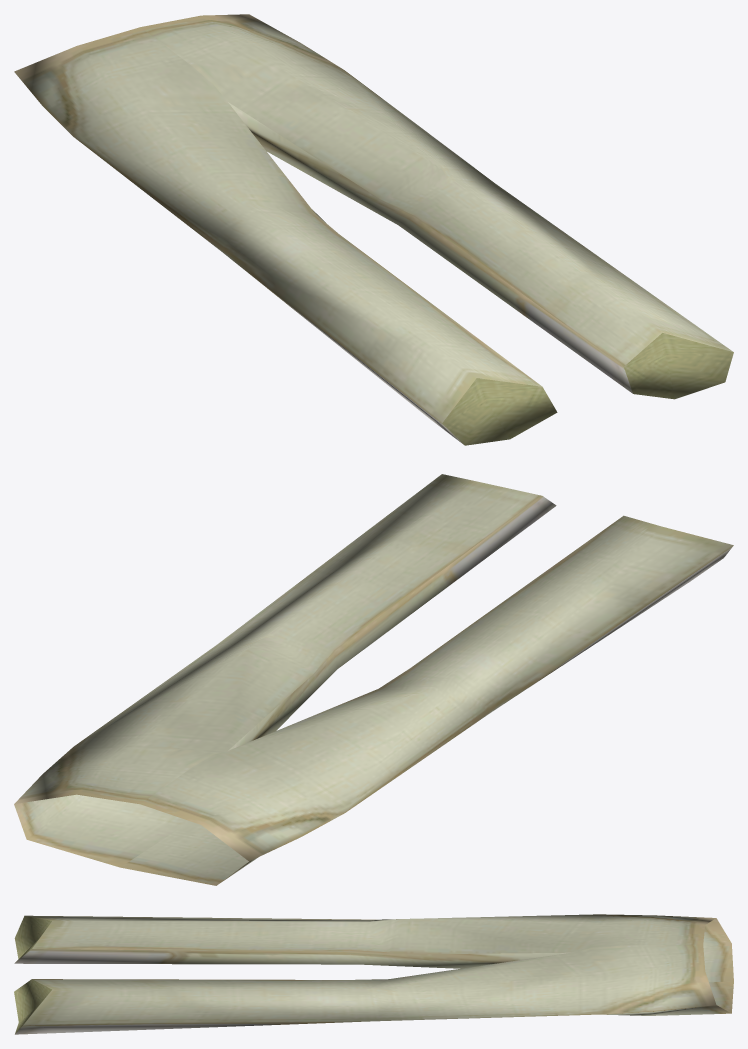
Rendered from m_Legs4.glb.
3 renders of one model, top to bottom at view 1: azimuth 30°, elevation 25°; view 2: azimuth 150°, elevation 25°; view 3: azimuth 270°, elevation 25°, orthographic. The views are drawn at different scales.
Visible parts, largest first — view 1: Legs4; view 2: Legs4; view 3: Legs4.
Boxes of the visible parts, bbox=[...] form: Legs4: bbox=[14, 14, 733, 445]; Legs4: bbox=[14, 474, 733, 885]; Legs4: bbox=[14, 914, 733, 1034].
Size of the model in its own units: 20.39 by 4.14 by 57.46.
Materials: 1 (1 with a texture image).
